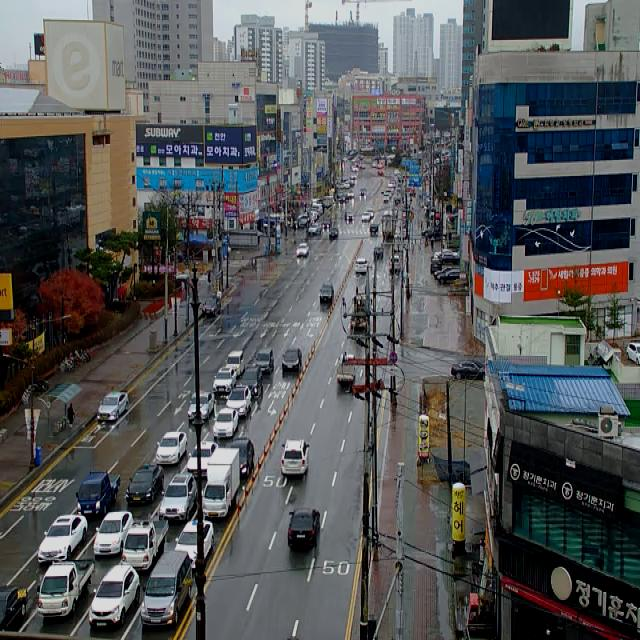Car: (141, 550, 193, 628), (37, 559, 95, 619), (89, 564, 140, 630), (38, 514, 88, 564), (121, 520, 168, 572), (159, 473, 198, 523), (174, 520, 214, 568), (94, 512, 134, 557), (126, 464, 164, 504), (0, 585, 29, 632), (288, 508, 320, 550), (187, 441, 219, 479), (280, 439, 310, 477), (156, 432, 187, 465), (230, 437, 255, 476), (97, 392, 128, 422), (188, 389, 214, 422), (213, 408, 239, 438), (226, 386, 251, 416), (240, 366, 263, 398), (213, 368, 236, 394), (451, 362, 485, 379), (282, 348, 302, 372), (225, 351, 244, 376), (256, 348, 274, 374), (202, 296, 221, 317), (434, 250, 459, 264), (437, 269, 460, 284), (320, 282, 334, 304), (627, 343, 640, 364), (434, 267, 456, 279), (296, 242, 309, 258), (355, 258, 368, 274), (389, 256, 401, 272), (421, 227, 440, 237), (431, 259, 442, 273), (309, 224, 322, 235), (374, 247, 384, 260), (329, 227, 339, 239), (322, 218, 332, 229), (362, 212, 371, 223), (344, 212, 355, 221), (403, 211, 414, 219), (366, 209, 374, 219), (370, 224, 378, 232)
Truck: (202, 448, 240, 519), (76, 470, 120, 518), (350, 294, 372, 333), (337, 353, 355, 384), (381, 208, 397, 242)
